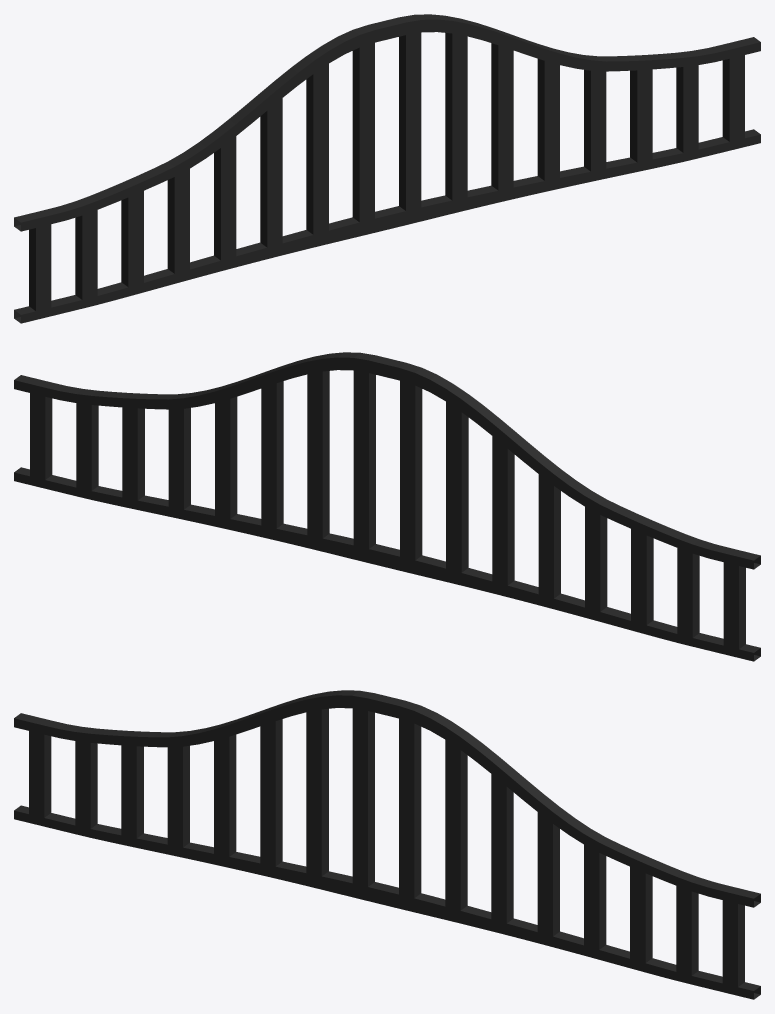
Rendered from Gate.obj.
3 views of the same model, one above another, from view 1: azimuth 30°, elevation 25°; view 2: azimuth 150°, elevation 25°; view 3: azimuth 330°, elevation 25° (orthographic).
Parts seen in each view (by area): view 1: brama; view 2: brama; view 3: brama.
Part boxes in pixels (x1,y1,x2,y2): brama: (14, 14, 760, 323); brama: (14, 352, 760, 661); brama: (14, 690, 760, 999).
Bounding box in the file's own units: 10.73 × 2.87 × 0.1769.
